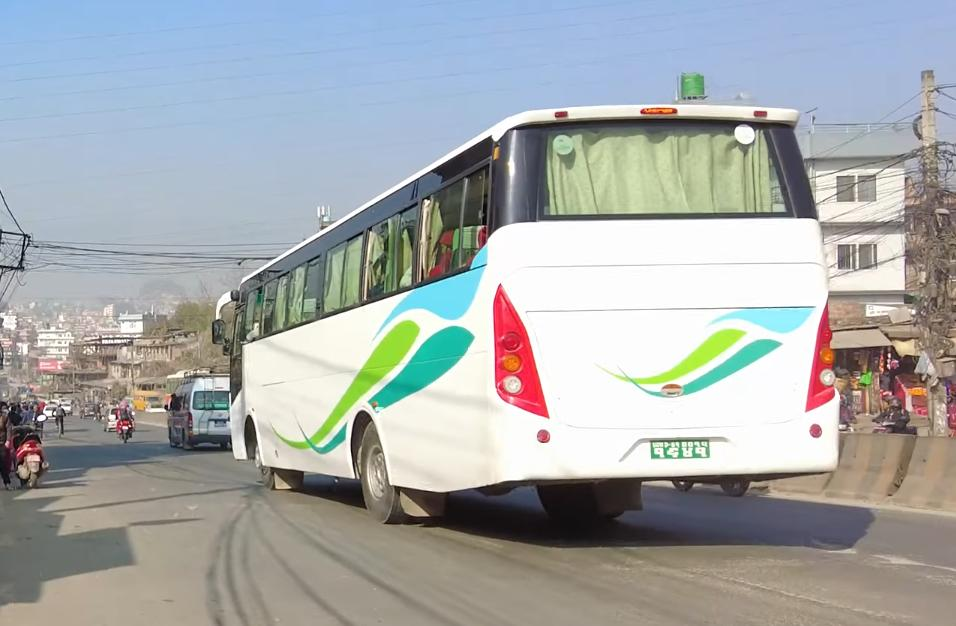bus: (203, 97, 850, 527)
micro_bus: (166, 365, 237, 452)
